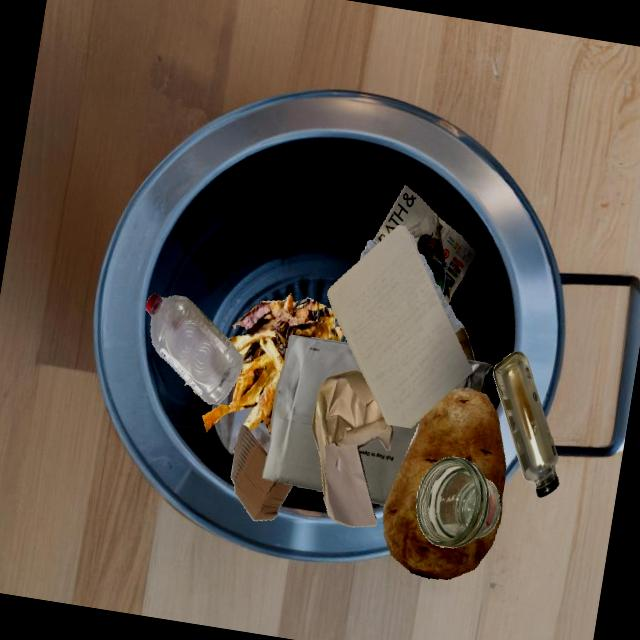biowaste: (383, 388, 506, 579), (202, 340, 289, 435), (228, 293, 334, 358)
cardboard: (231, 425, 293, 521), (455, 327, 475, 361)
glass: (493, 351, 559, 498), (416, 457, 501, 548), (418, 252, 446, 293)
paper: (327, 225, 473, 429), (262, 335, 362, 492), (312, 370, 392, 527), (373, 185, 476, 304)
plastic: (146, 293, 242, 405), (409, 233, 465, 333), (360, 240, 378, 260)
